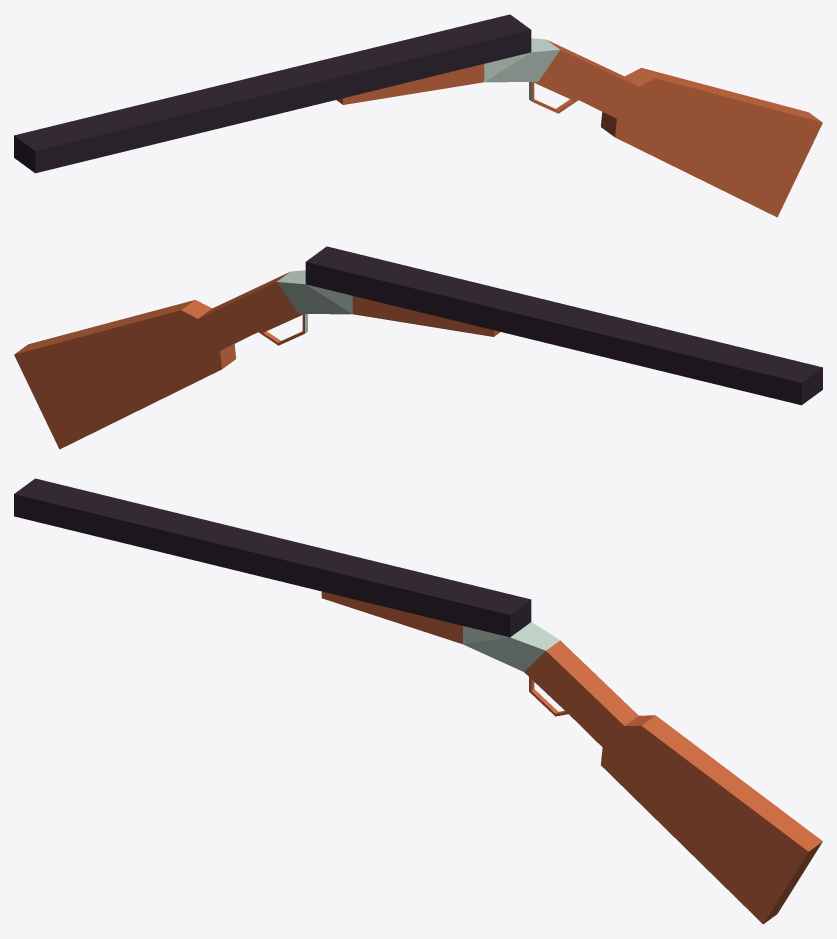
Rendered from HuntingShotgun.fbx.
3 renders of one model, top to bottom at view 1: azimuth 30°, elevation 25°; view 2: azimuth 150°, elevation 25°; view 3: azimuth 330°, elevation 25°, orthographic.
Parts seen in each view (by area): view 1: Cube; view 2: Cube; view 3: Cube.
Boxes of the visible parts, x1,y1,x2,y2 form: Cube: (14, 14, 822, 217); Cube: (14, 246, 822, 449); Cube: (14, 478, 822, 924).
Bounding box in the file's own units: 134 × 40.53 × 6.23.
